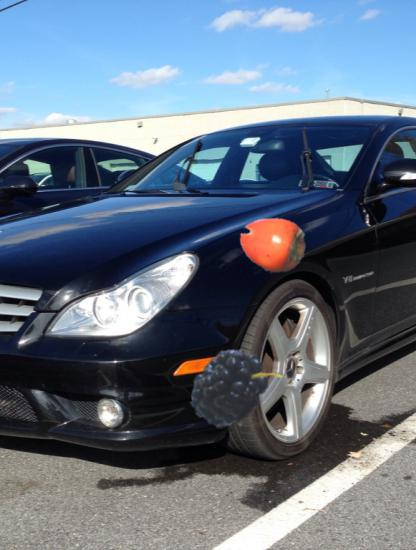Kaki: (238, 210, 308, 280)
Mulberry: (167, 331, 273, 437)
